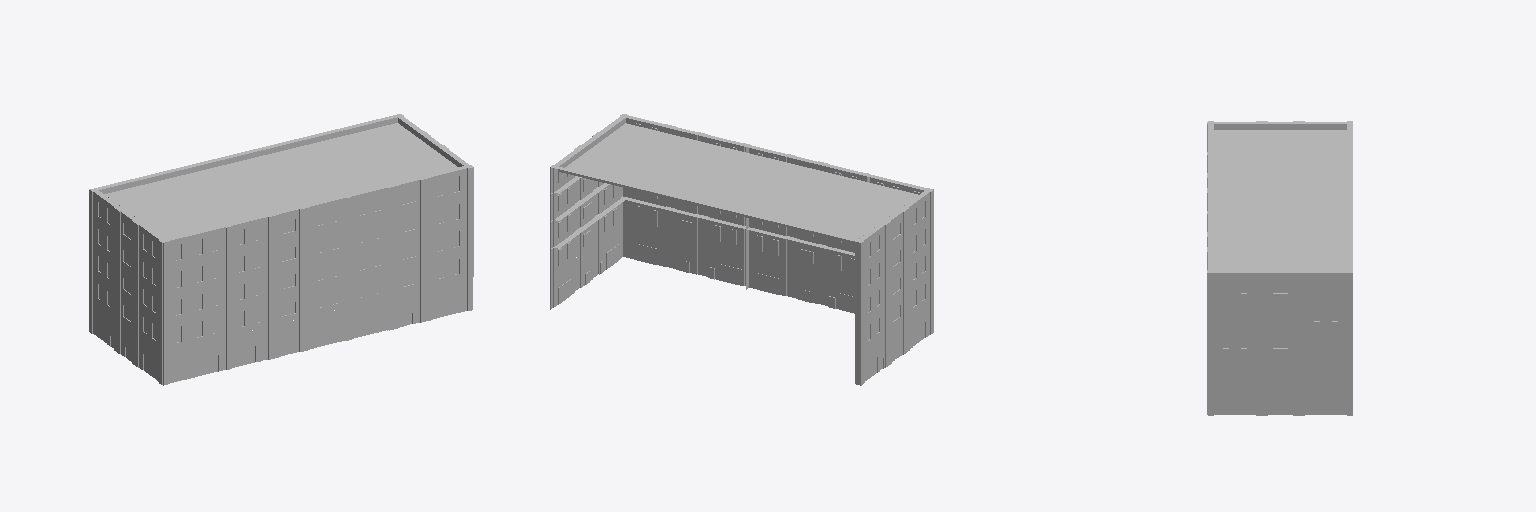
Rendered from LongShortBuilding2.obj.
The picture shows the model from 3 angles: view 1: azimuth 30°, elevation 25°; view 2: azimuth 150°, elevation 25°; view 3: azimuth 270°, elevation 25°; orthographic projection.
Parts seen in each view (by area): view 1: LongShortBuilding2; view 2: LongShortBuilding2; view 3: LongShortBuilding2.
Boxes of the visible parts, box(x1,y1,x2,y2) form: LongShortBuilding2: box(89, 114, 473, 385); LongShortBuilding2: box(550, 114, 933, 385); LongShortBuilding2: box(1207, 121, 1352, 415).
Size of the model in its own units: 69.18 by 26 by 24.2.